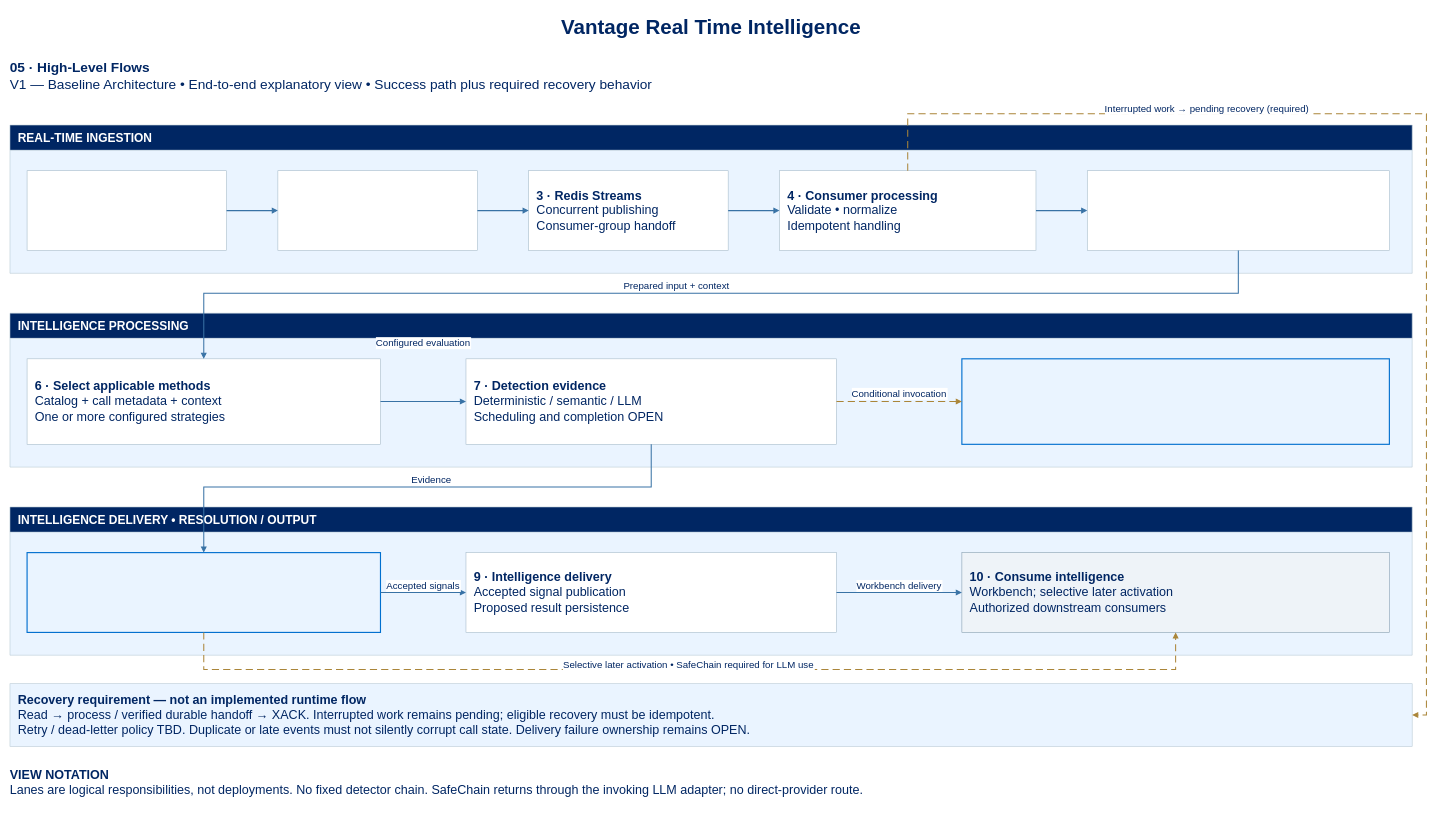
Image size: 1442x816. Some labels were removed from this diagram. Here are the shapes that lost their labels. From the top down, the centre of each, then its label:
point 127,210: 1 · Event source Genesys audio / STT Emulator test stream
point 377,210: 2 · Transcript ingress Frame updates Preserve session identity
point 1238,210: 5 · Context preparation Session windows Bounded call context
point 1175,401: SafeChain Integration Secure LLM Invocation Only when an LLM is required
point 203,592: 8 · Governed result Shared Signal Resolution Evidence + thresholds; policy OPEN
